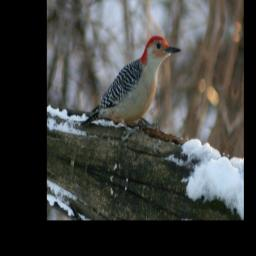Woodpecker: (82, 12, 183, 159)
